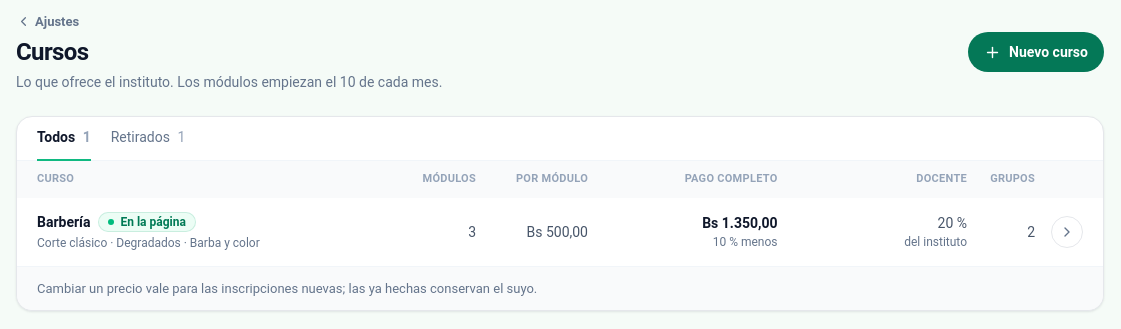
Test case: N2 · Cursos › U4: los chips son Todos y Retirados, y sólo si hay algún retirado
Click the tab "Retirados 1" at (148, 139), box top-left (111, 117), bottom-right (185, 161)
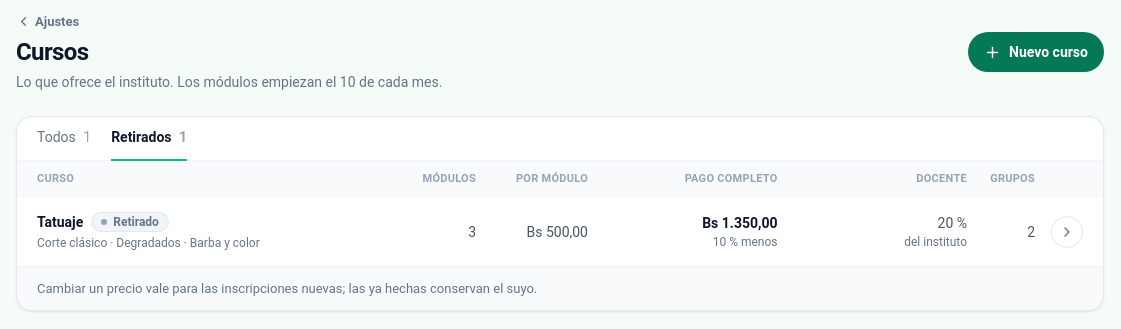
Check: the button with aria-label "Editar Tatuaje" is shown, box top-left (17, 198), bottom-right (1103, 266)
